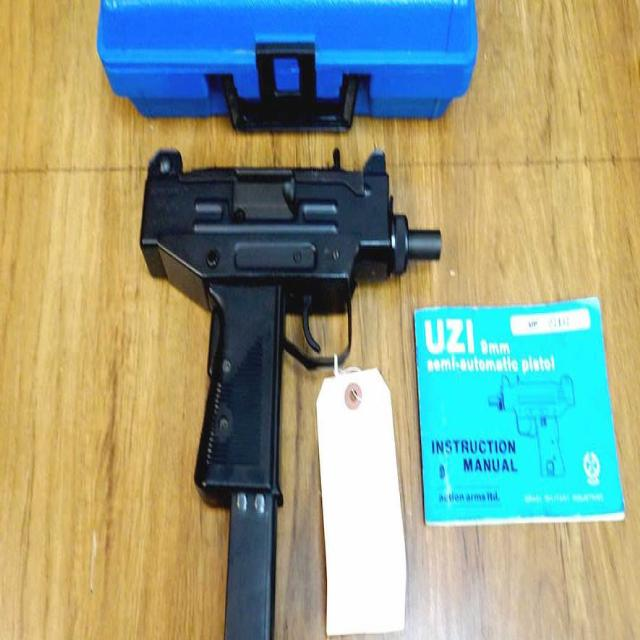SMG: (140, 151, 439, 640)
